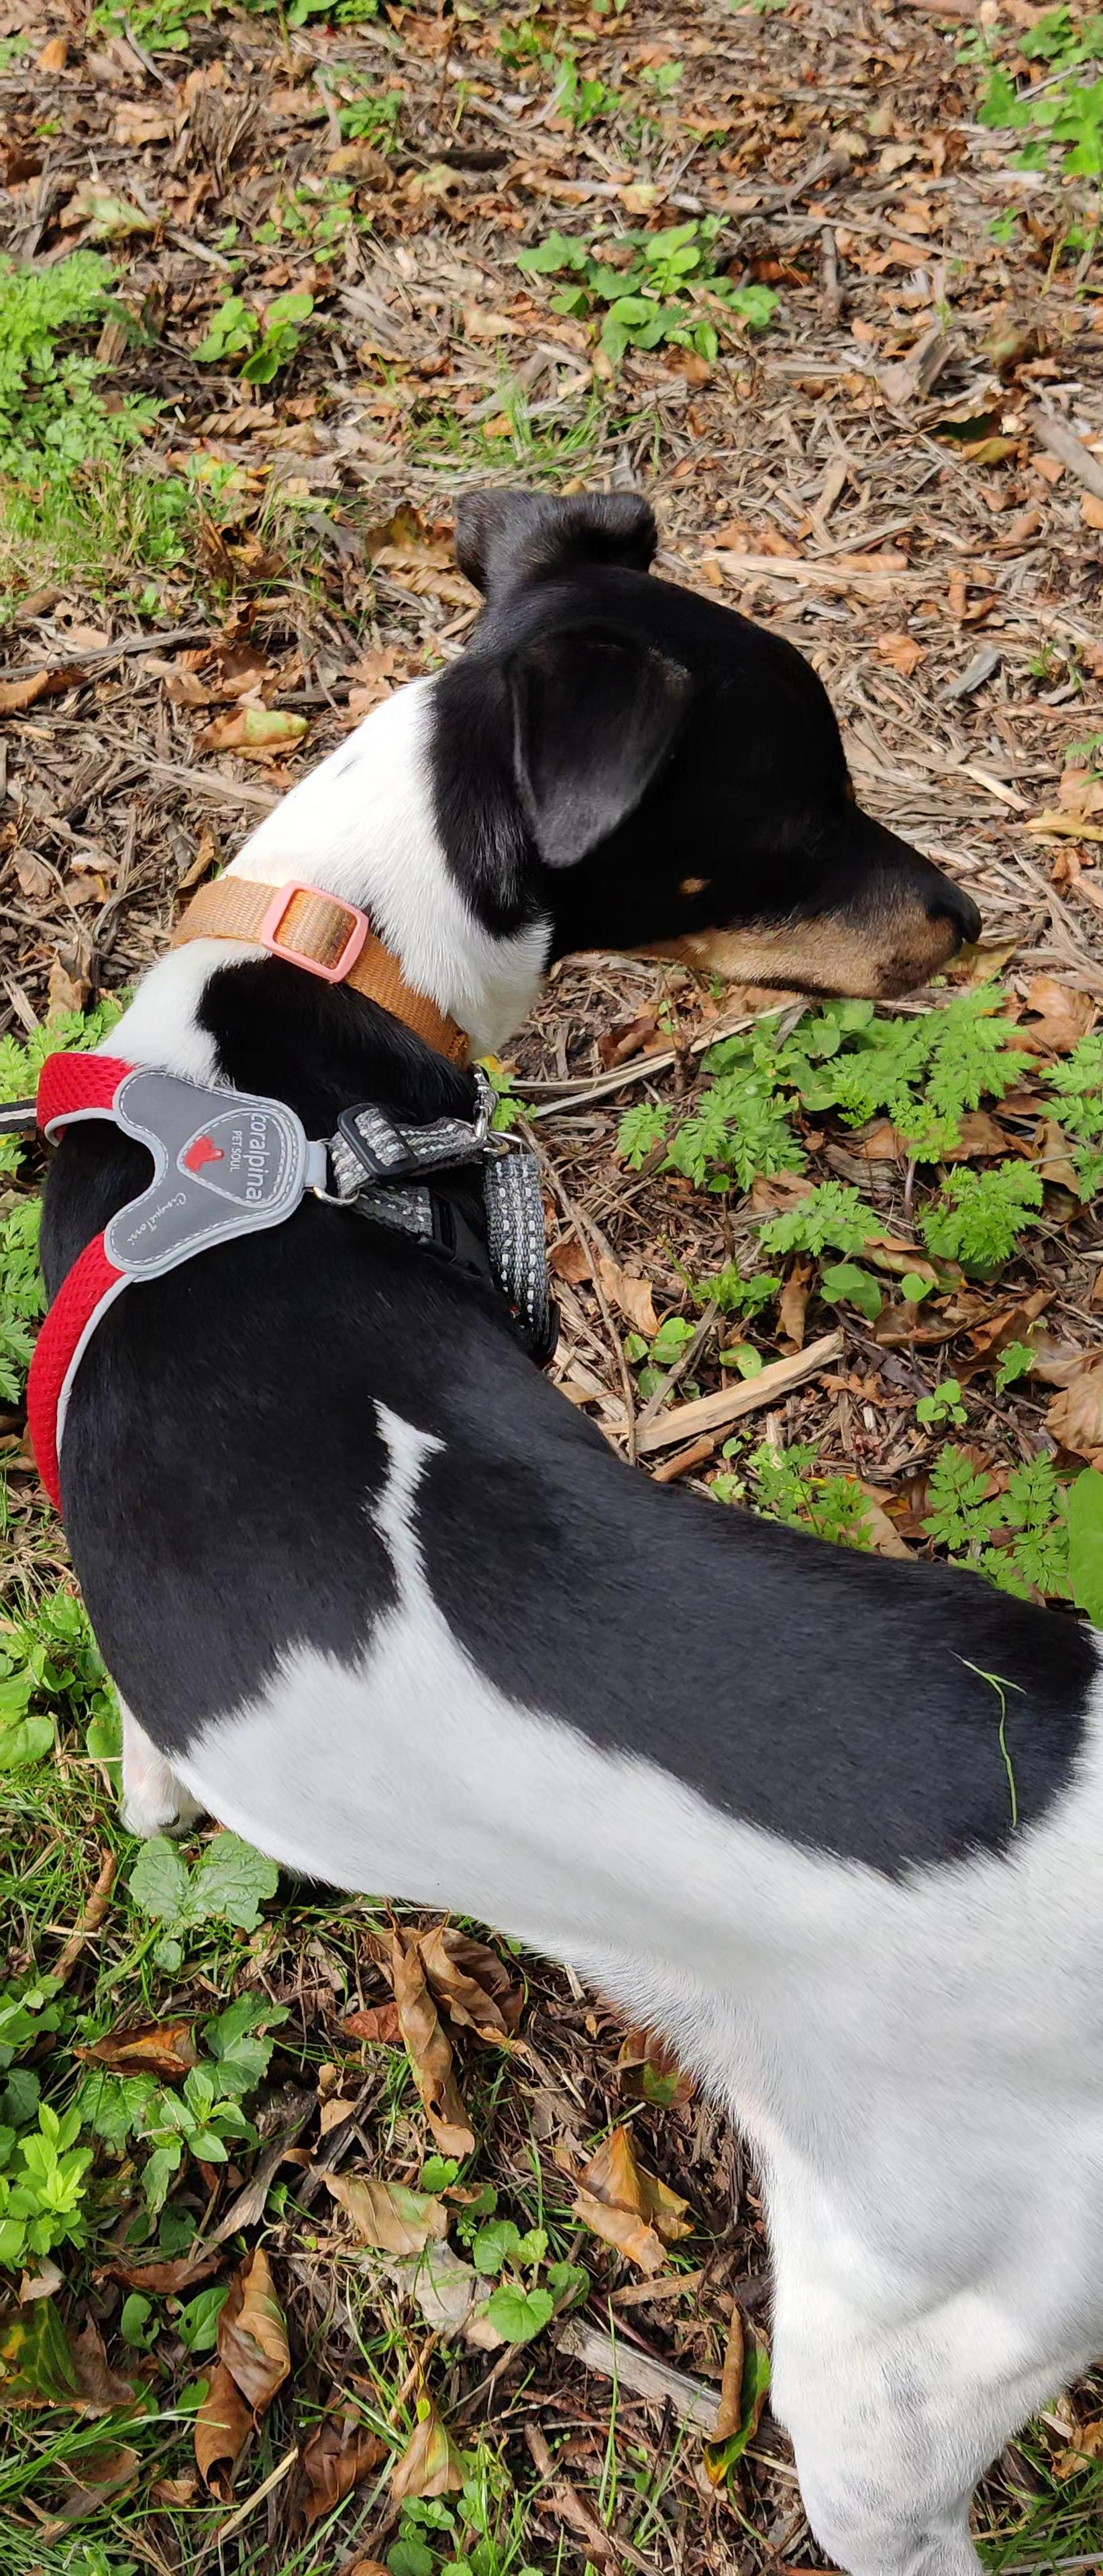Dog: (28, 468, 1103, 2576)
